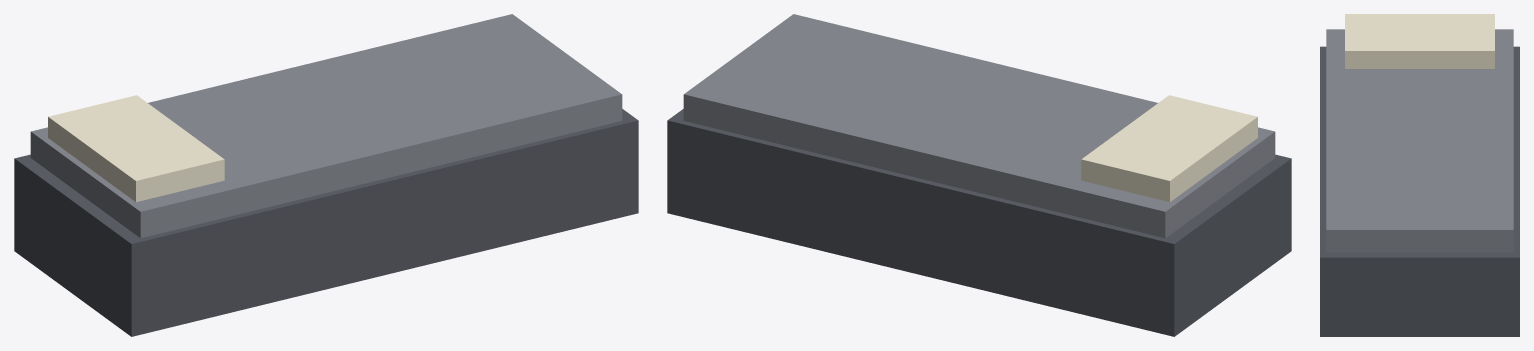
Rendered from station_bunk.glb.
3 views of the same model, side by side, from view 1: azimuth 30°, elevation 25°; view 2: azimuth 150°, elevation 25°; view 3: azimuth 270°, elevation 25° (orthographic). The views are drawn at different scales.
Parts seen in each view (by area): view 1: frame_bunk_steel, blanket_bunk_blanket, pillow_bunk_pillow; view 2: frame_bunk_steel, blanket_bunk_blanket, pillow_bunk_pillow; view 3: blanket_bunk_blanket, frame_bunk_steel, pillow_bunk_pillow.
Part boxes in pixels (x1,y1,x2,y2): frame_bunk_steel: [14, 109, 638, 336]; blanket_bunk_blanket: [30, 14, 622, 238]; pillow_bunk_pillow: [48, 95, 224, 201]; frame_bunk_steel: [667, 109, 1291, 336]; blanket_bunk_blanket: [683, 14, 1275, 238]; pillow_bunk_pillow: [1081, 95, 1257, 201]; blanket_bunk_blanket: [1326, 29, 1513, 252]; frame_bunk_steel: [1320, 46, 1519, 336]; pillow_bunk_pillow: [1345, 14, 1494, 68].
Size of the model in its own units: 2 by 0.53 by 0.8.
